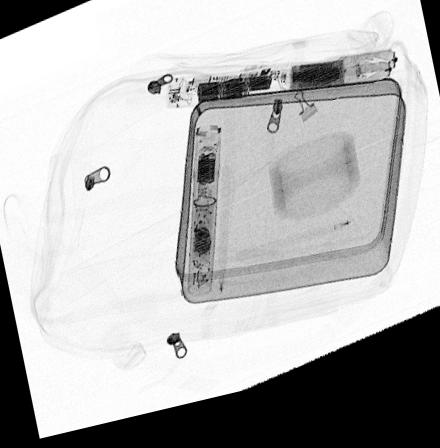Baton: (164, 66, 398, 116), (186, 132, 222, 306)
